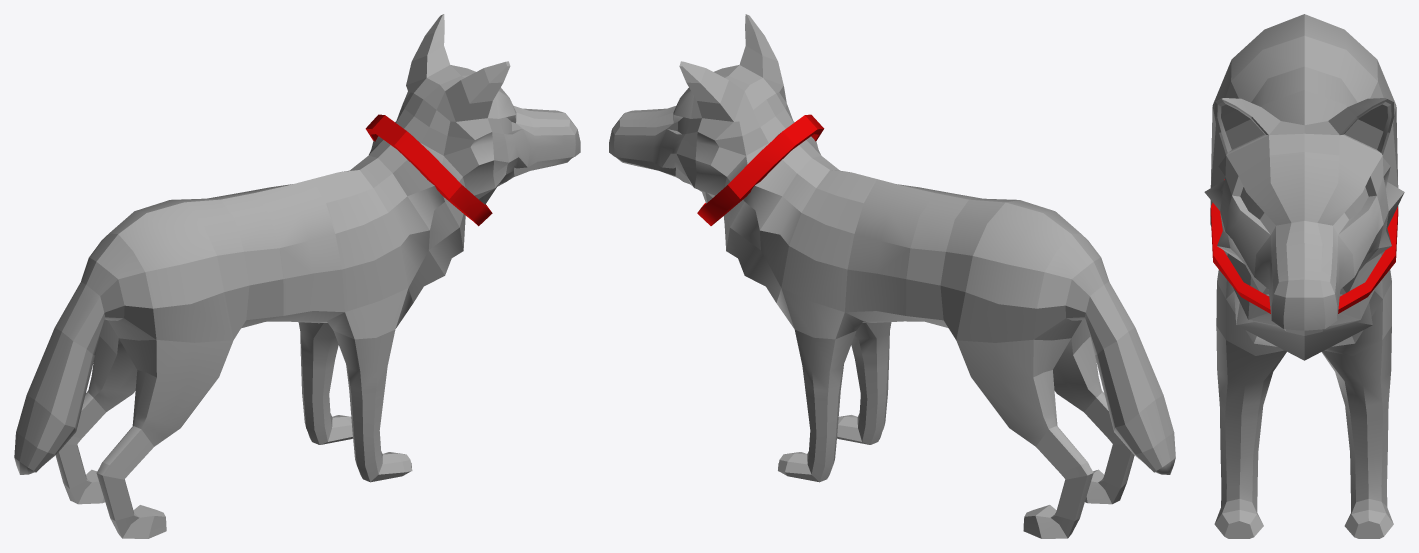
The model's file is dog_model_out.02.fbx.
The picture shows the model from 3 angles, left to right: view 1: azimuth 30°, elevation 25°; view 2: azimuth 150°, elevation 25°; view 3: azimuth 270°, elevation 25°; orthographic projection. The views are drawn at different scales.
Parts seen in each view (by area): view 1: doge, collar; view 2: doge, collar; view 3: doge, collar.
Part boxes in pixels (x1,y1,x2,y2): doge: [14, 14, 580, 538]; collar: [365, 114, 492, 226]; doge: [609, 14, 1175, 538]; collar: [697, 114, 824, 225]; doge: [1204, 14, 1404, 538]; collar: [1210, 179, 1398, 313].
Size of the model in its own units: 11.21 by 7.5 by 2.73.
